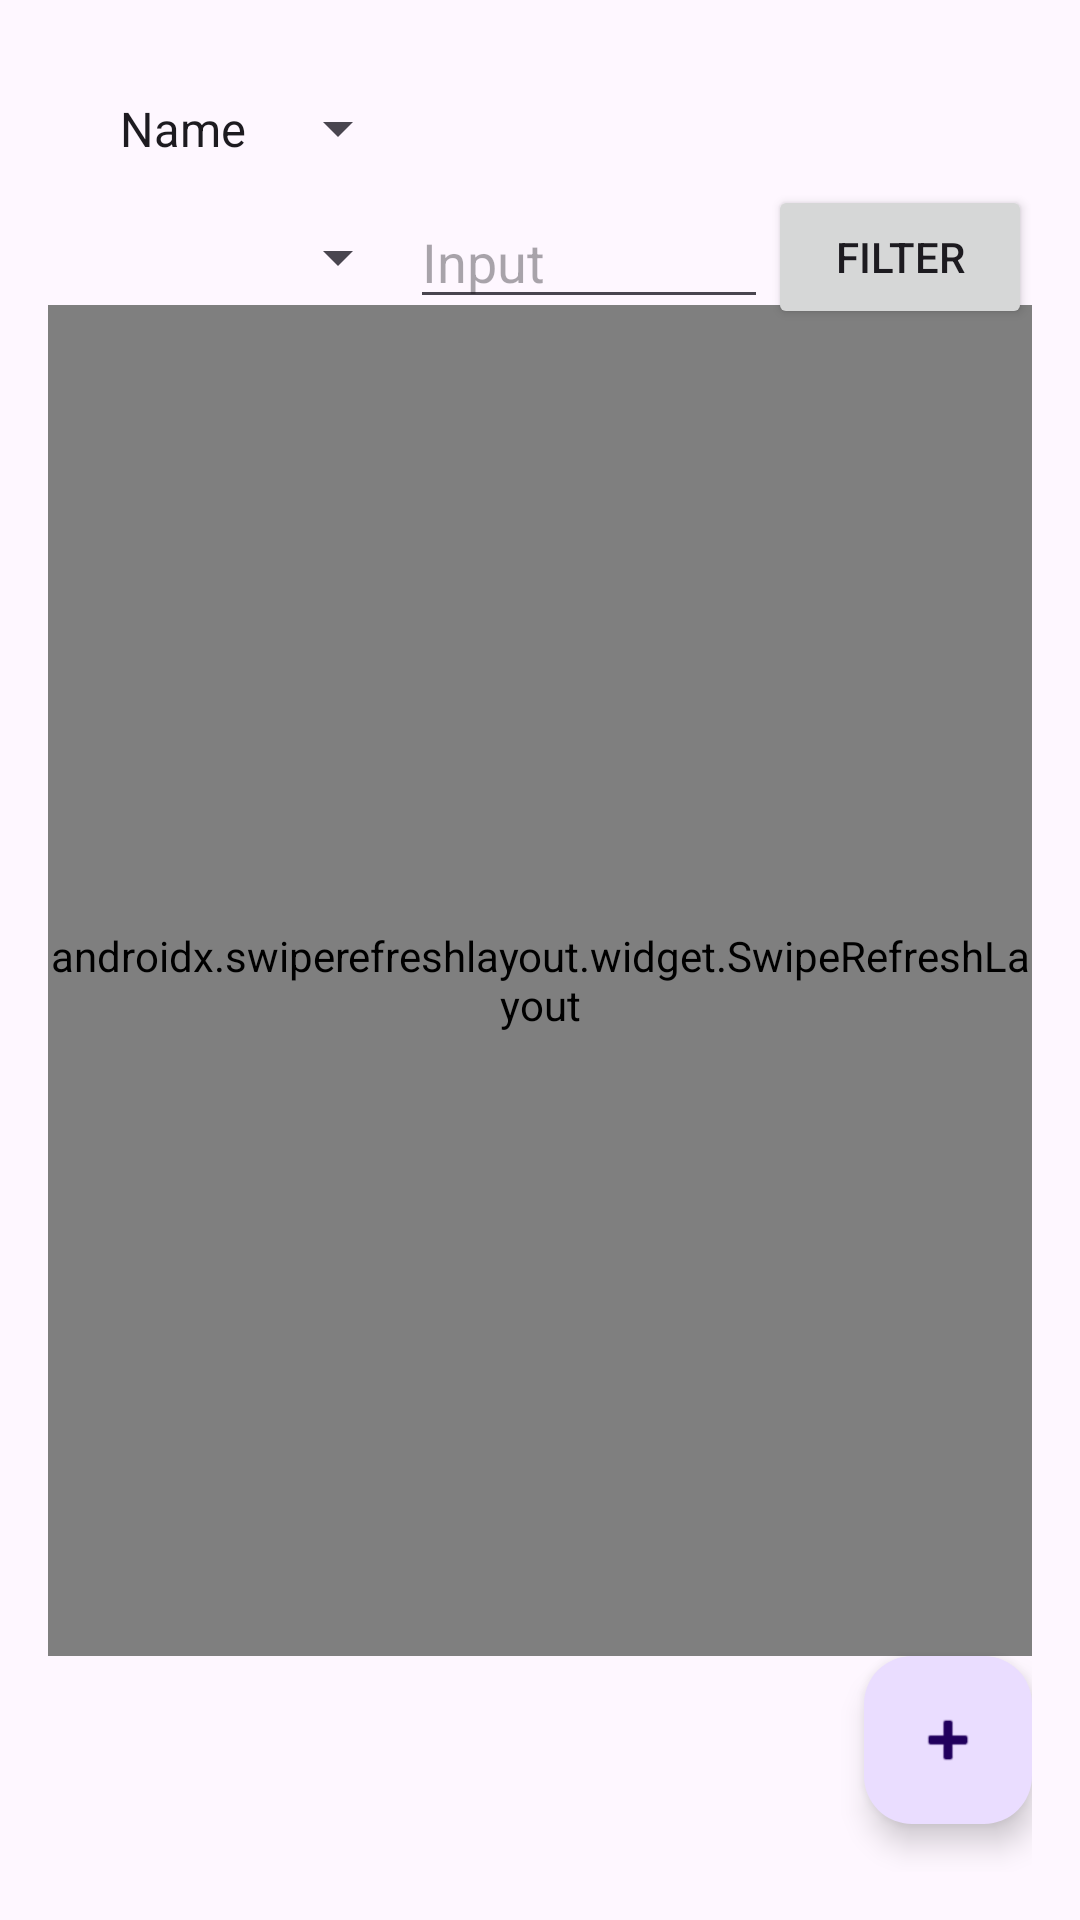

Icons on this 1080px x 1920px Android screen, each with the point to tap as (x=x, y=y):
add: (x=948, y=1740)
